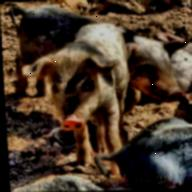boar: (12, 0, 189, 111), (33, 12, 145, 151)
